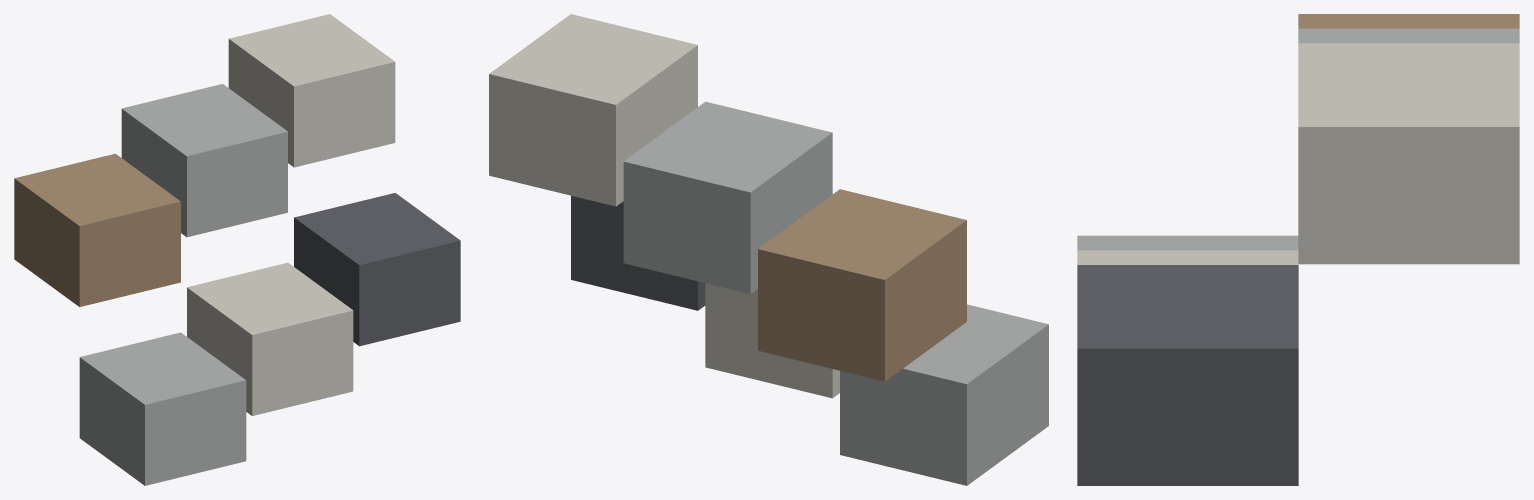
File: EXT-008.glb
The picture shows the model from 3 angles, left to right: view 1: azimuth 30°, elevation 25°; view 2: azimuth 150°, elevation 25°; view 3: azimuth 270°, elevation 25°; orthographic projection. The views are drawn at different scales.
Parts seen in each view (by area): view 1: 000_Trash_block, 003_Trash_block, 005_Trash_block, 002_Trash_block, 001_Trash_block, 004_Trash_block; view 2: 003_Trash_block, 004_Trash_block, 005_Trash_block, 000_Trash_block, 001_Trash_block, 002_Trash_block; view 3: 005_Trash_block, 002_Trash_block, 004_Trash_block, 000_Trash_block, 001_Trash_block, 003_Trash_block.
Part boxes in pixels (box(x1,y1,x2,y2)): 000_Trash_block: box(79, 332, 246, 485); 003_Trash_block: box(14, 153, 180, 306); 005_Trash_block: box(228, 14, 395, 167); 002_Trash_block: box(294, 193, 460, 346); 001_Trash_block: box(187, 262, 353, 415); 004_Trash_block: box(121, 84, 287, 237); 003_Trash_block: box(758, 189, 966, 381); 004_Trash_block: box(623, 101, 832, 293); 005_Trash_block: box(489, 14, 697, 206); 000_Trash_block: box(840, 304, 1048, 485); 001_Trash_block: box(705, 283, 839, 398); 002_Trash_block: box(571, 195, 705, 310); 005_Trash_block: box(1298, 43, 1519, 264); 002_Trash_block: box(1077, 265, 1298, 485); 004_Trash_block: box(1298, 28, 1519, 43); 000_Trash_block: box(1077, 235, 1298, 250); 001_Trash_block: box(1077, 250, 1298, 264); 003_Trash_block: box(1298, 14, 1519, 28).
Size of the model in its own units: 0.53 by 0.48 by 0.38.
